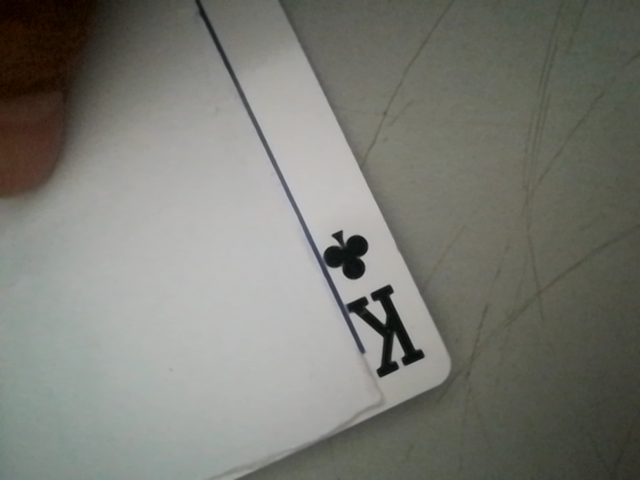mh k: (306, 217, 442, 392)
